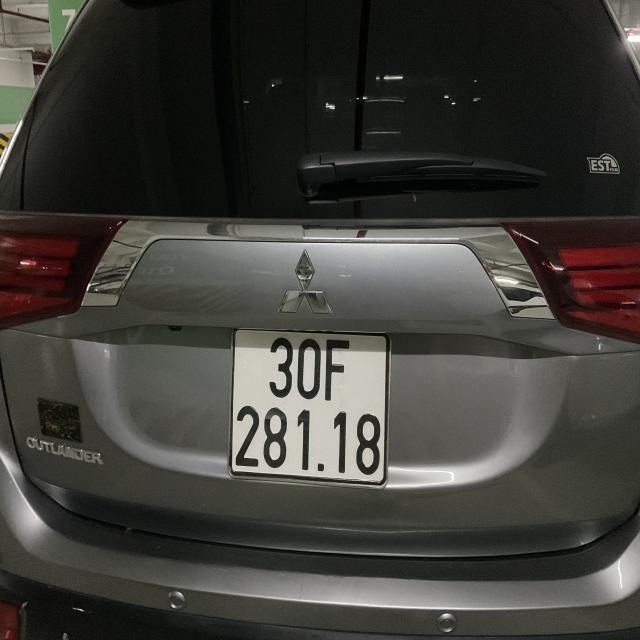license: (228, 328, 390, 486)
